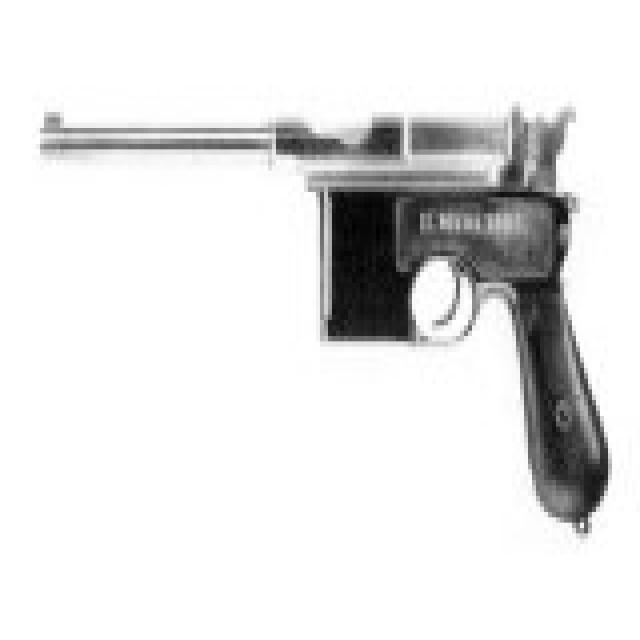Gun: (36, 58, 626, 519)
